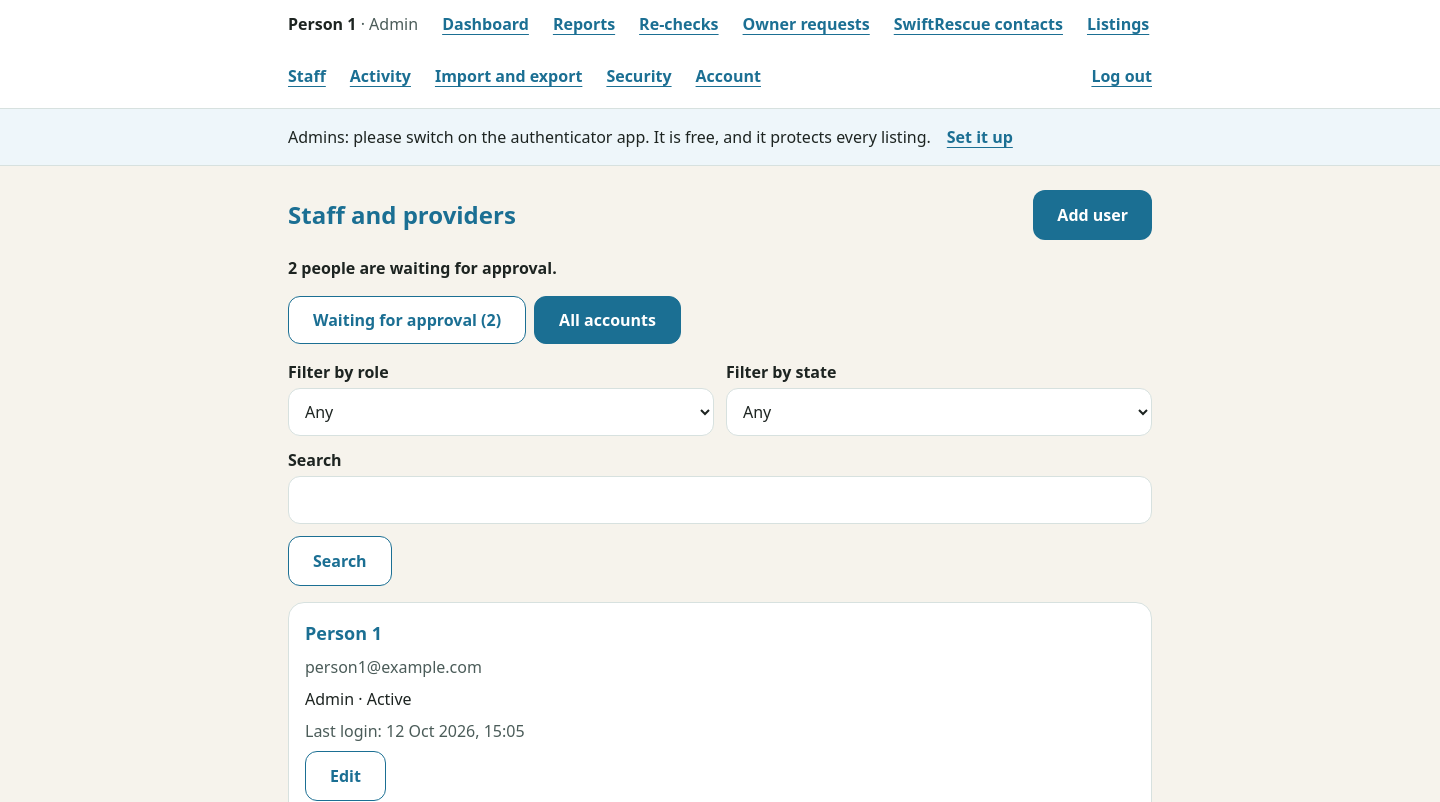
Test case: Waiting for approval › asks before it approves, and Cancel changes nothing
The width and height of the screenshot is (1440, 802).
Click the tab "Waiting for approval (2)" at (407,320), box x1=288 y1=296 x2=526 y2=344
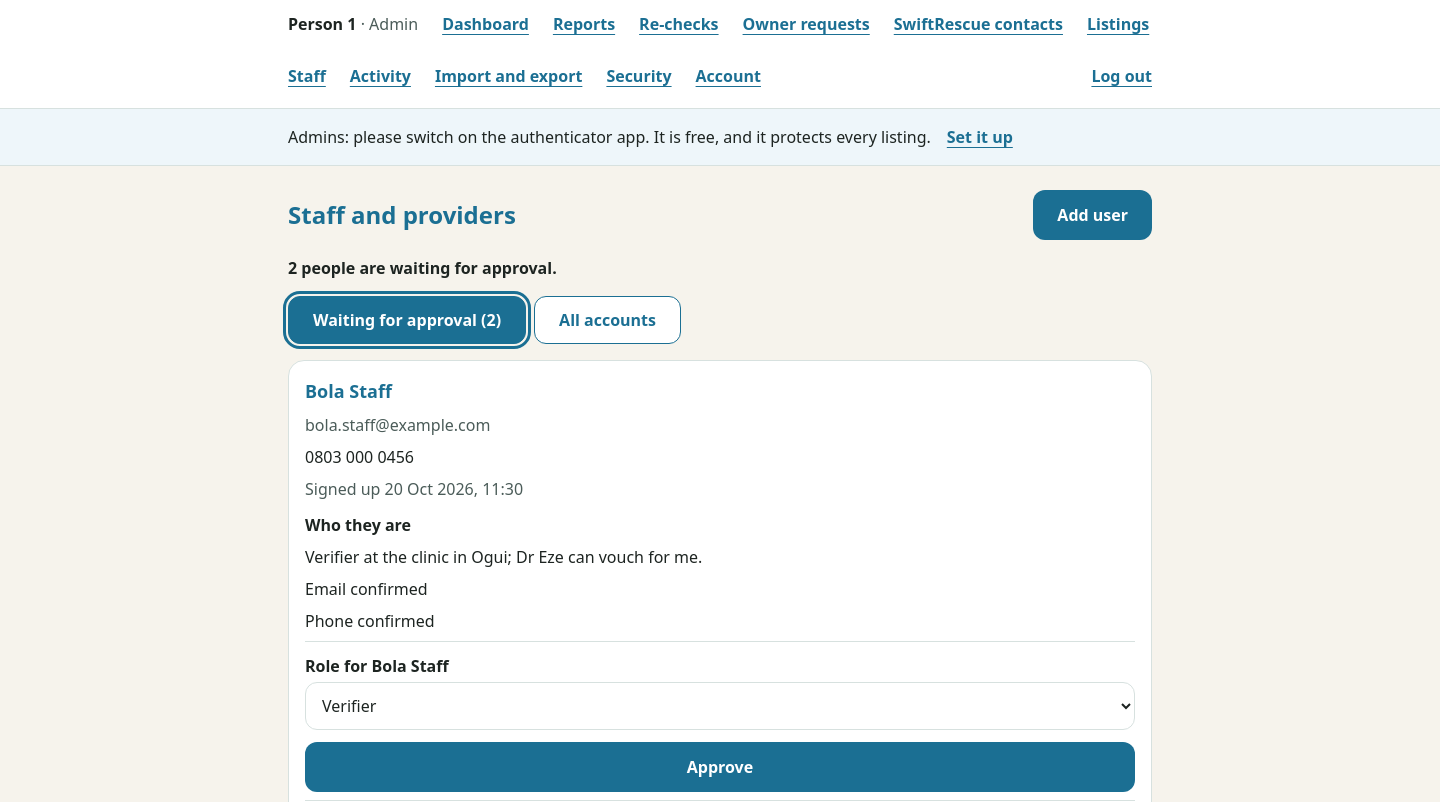
Expected: the text "Bola Staff" is shown, x1=305 y1=379 x2=392 y2=403
Select "Editor" in the dropdown labelled "Role for Bola Staff" at (720,706), box x1=305 y1=682 x2=1135 y2=730
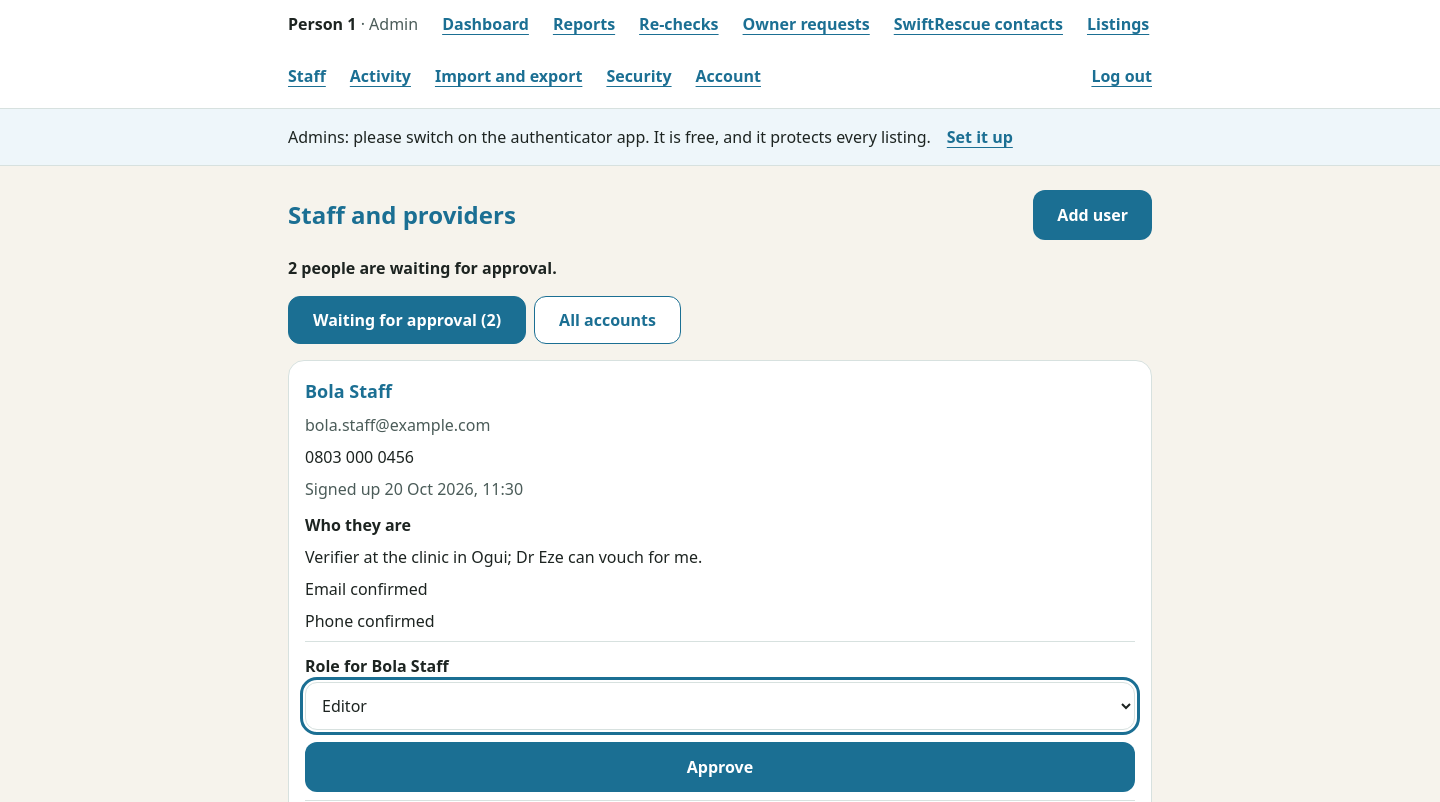
Click the button with aria-label "Approve Bola Staff" at (720,767), box x1=305 y1=742 x2=1135 y2=792
(page scrolled)
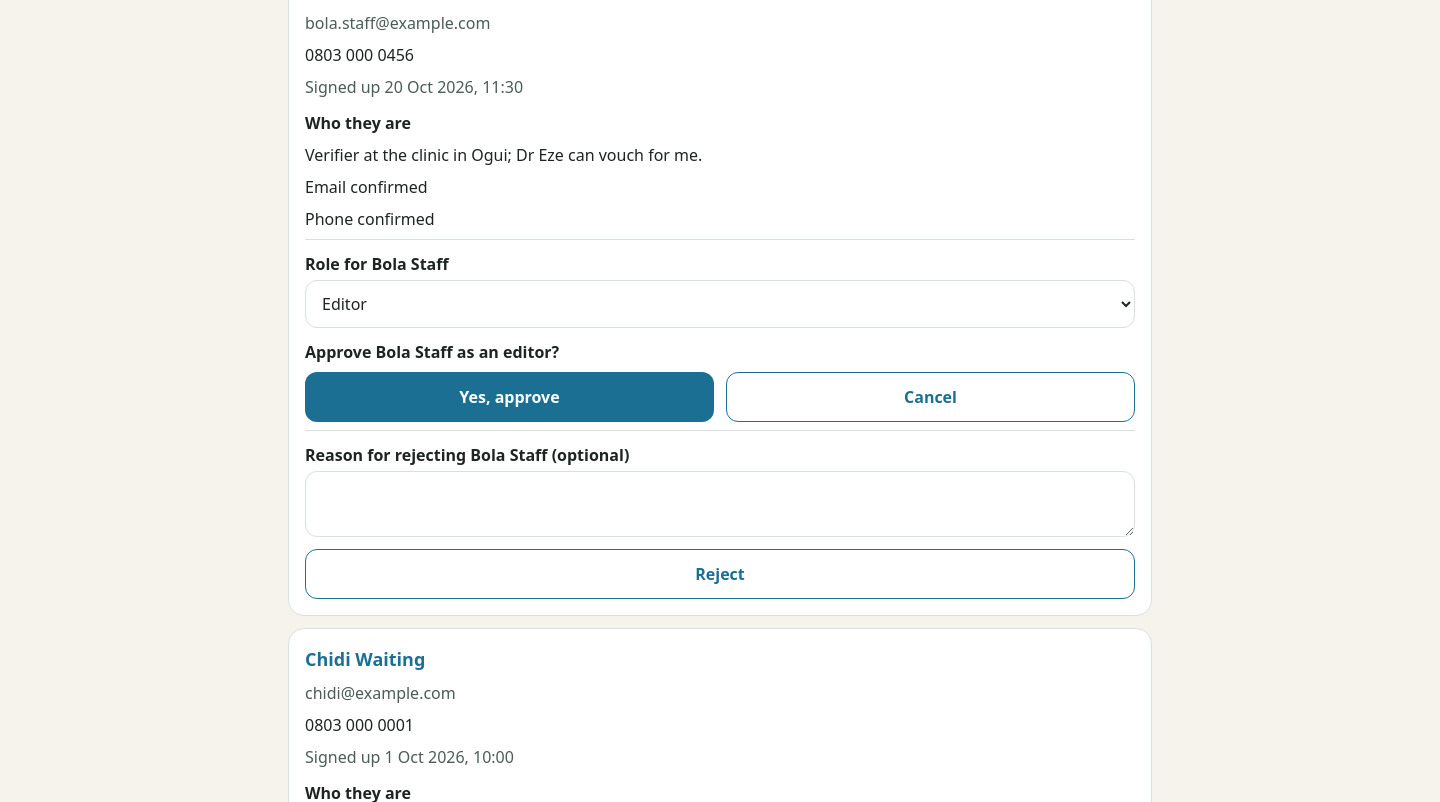
Expected: the text "Approve Bola Staff as an editor?" is shown, x1=305 y1=341 x2=559 y2=363
Click the button "Cancel" at (930,397), box x1=726 y1=372 x2=1135 y2=422
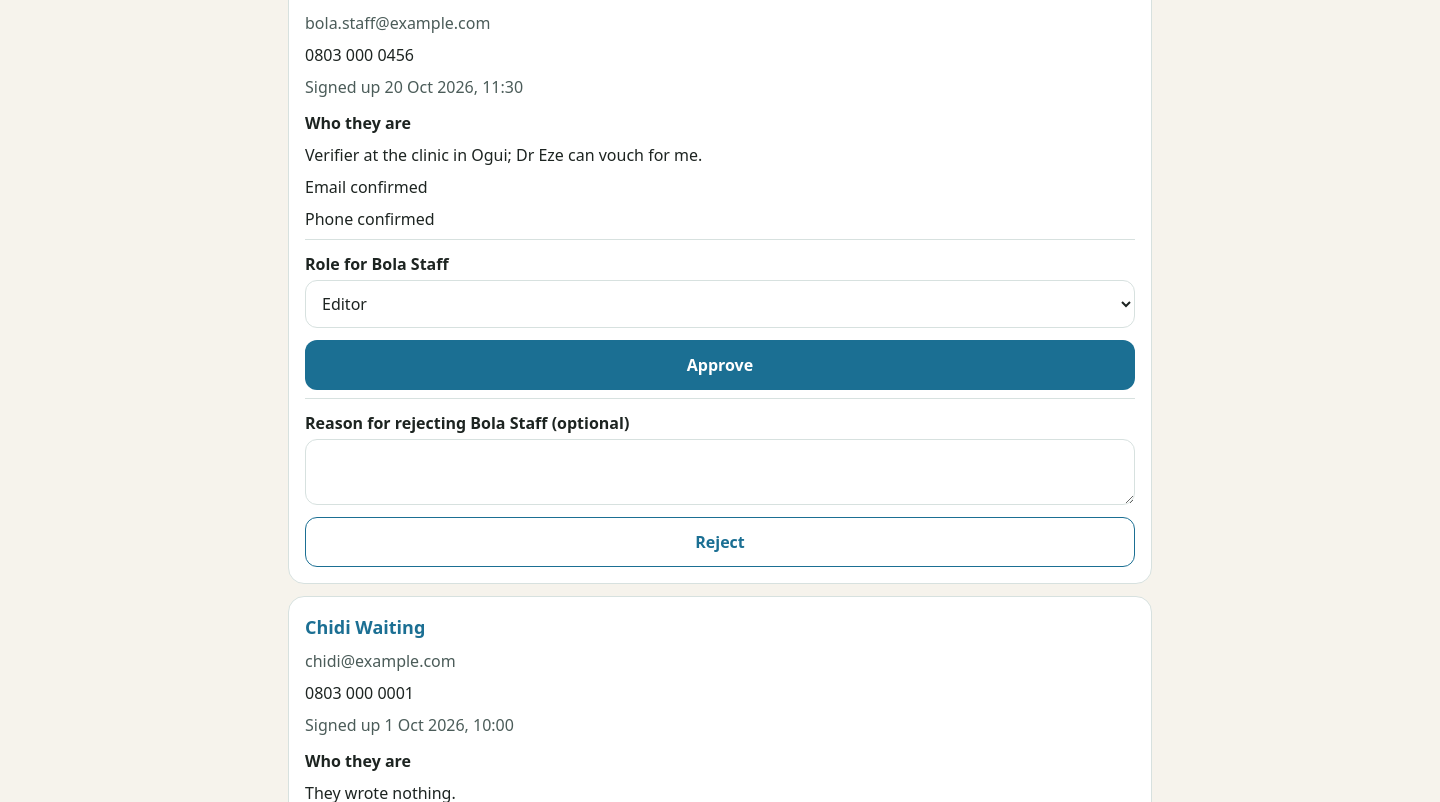
Expected: the text "Approve Bola Staff as an editor?" is gone
